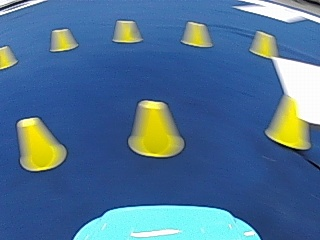cone: (128, 100, 184, 157), (14, 116, 64, 171), (263, 91, 309, 148), (180, 21, 212, 47), (249, 30, 277, 57), (112, 19, 142, 43), (49, 28, 77, 52), (0, 45, 17, 68)
